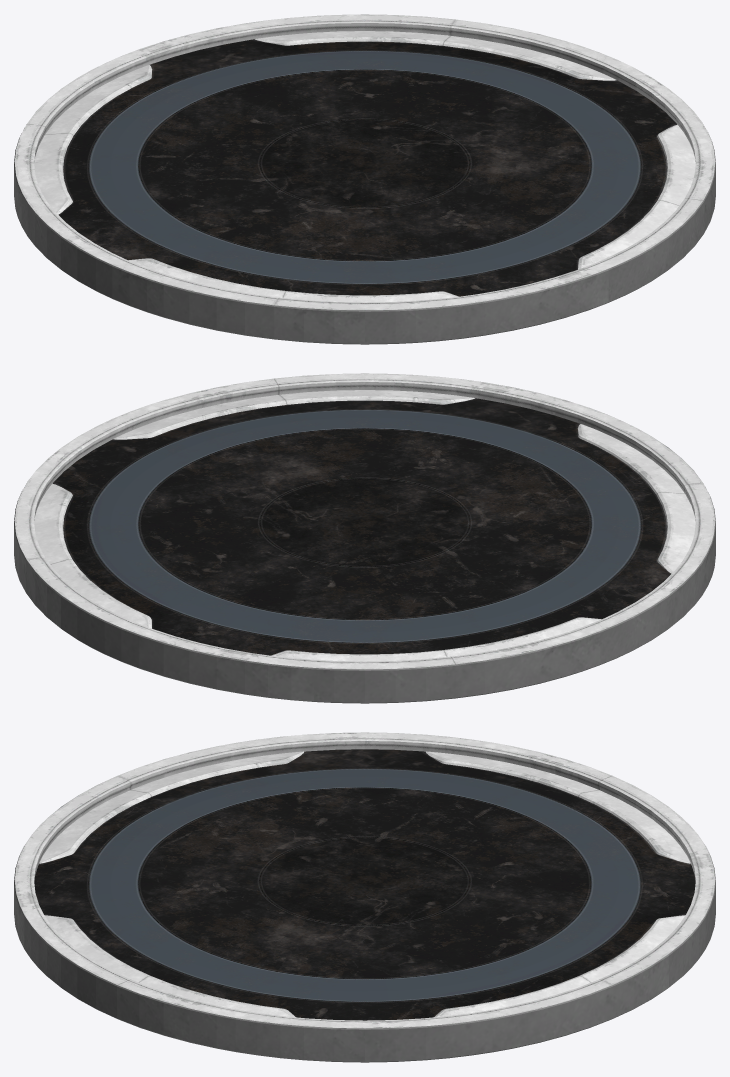
Rendered from M_c5_xr_yuanpan_01.fbx.
3 views of the same model, one above another, from view 1: azimuth 30°, elevation 25°; view 2: azimuth 150°, elevation 25°; view 3: azimuth 270°, elevation 25° (orthographic).
Visible parts, largest first — view 1: M_c5_xr_yuanpan_01.mo; view 2: M_c5_xr_yuanpan_01.mo; view 3: M_c5_xr_yuanpan_01.mo.
Part boxes in pixels (box(x1,y1,x2,y2)): M_c5_xr_yuanpan_01.mo: box(14, 14, 715, 344); M_c5_xr_yuanpan_01.mo: box(14, 373, 715, 703); M_c5_xr_yuanpan_01.mo: box(14, 732, 715, 1062).
Bounding box in the file's own units: 369 × 20.06 × 369.
